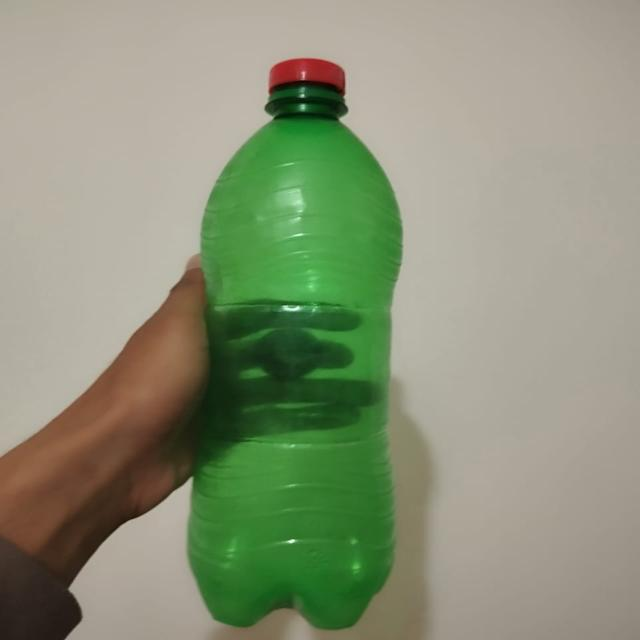bottle: (200, 59, 400, 629)
cap: (267, 58, 347, 100)
